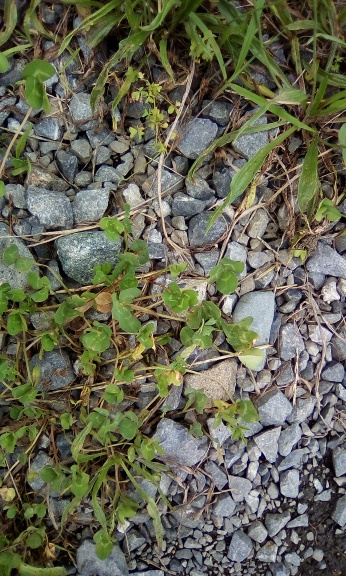4leaf: (161, 282, 199, 315)
